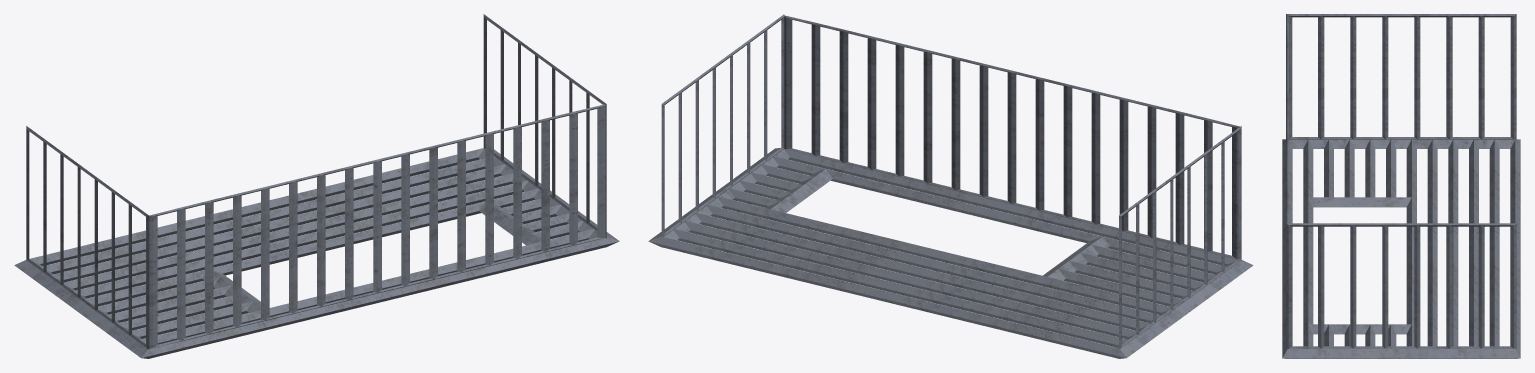
File: FireEscape_Top_Model.fbx
3 views of the same model, side by side, from view 1: azimuth 30°, elevation 25°; view 2: azimuth 150°, elevation 25°; view 3: azimuth 270°, elevation 25° (orthographic). The views are drawn at different scales.
Visible parts, largest first — view 1: FireEscape_Top; view 2: FireEscape_Top; view 3: FireEscape_Top.
Part boxes in pixels (x1,y1,x2,y2): FireEscape_Top: (14,14,619,358); FireEscape_Top: (648,14,1253,358); FireEscape_Top: (1282,14,1520,358).
Bounding box in the file's own units: 11.83 × 3.4 × 5.43.
Materials: 1 (1 with a texture image).
